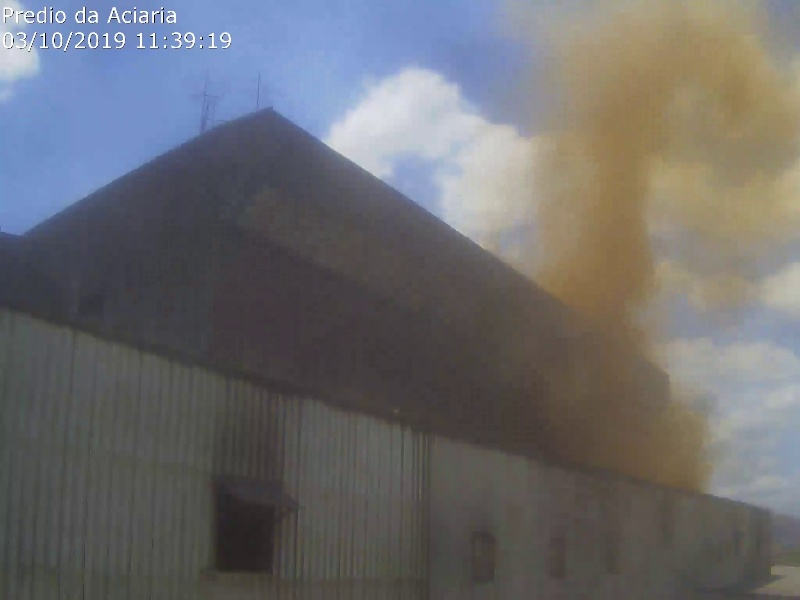bom: (228, 9, 491, 304), (3, 4, 236, 253)
pessimo: (525, 4, 793, 494)
